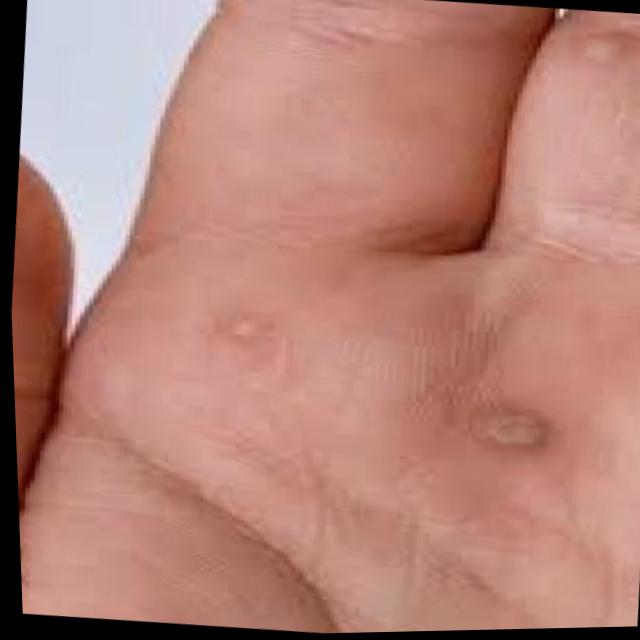Eczema: (470, 387, 522, 441), (223, 312, 254, 340)
